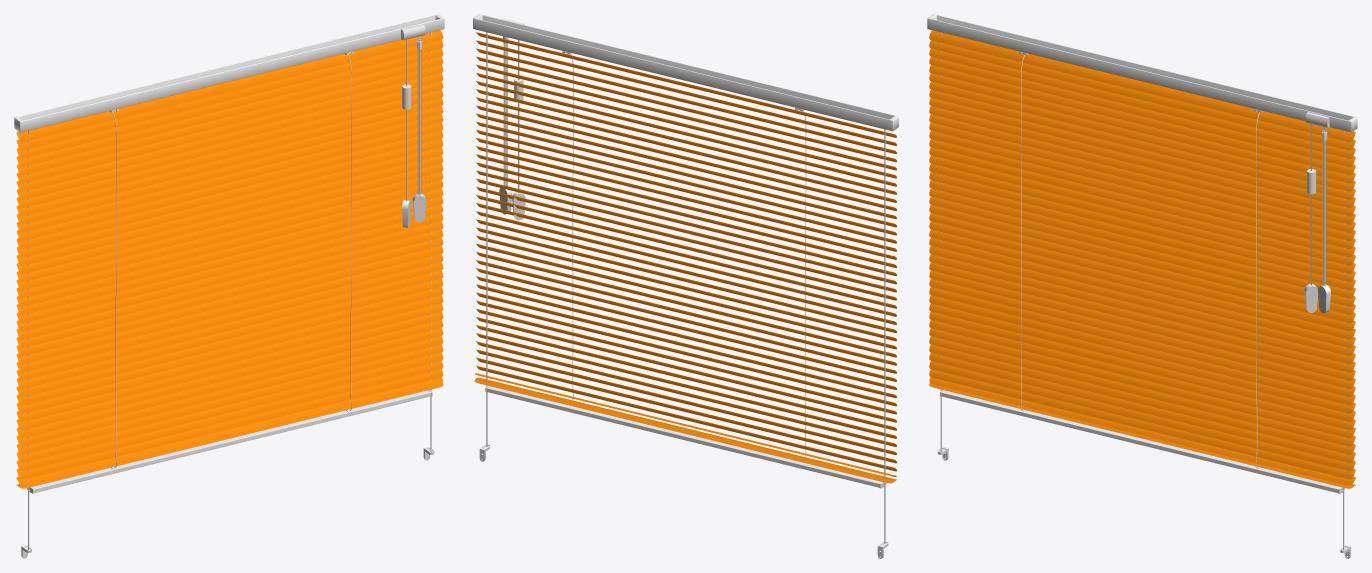
Rendered from 8000 Standardjalousie (Schnurzug_Wendestab).glb.
The picture shows the model from 3 angles, left to right: view 1: azimuth 30°, elevation 25°; view 2: azimuth 150°, elevation 25°; view 3: azimuth 330°, elevation 25°; orthographic projection.
Visible parts, largest first — view 1: Cube.036, jalousie.049, jalousie.034, jalousie.029, jalousie.033, jalousie.038, jalousie.039, jalousie.042, jalousie.025, jalousie.030, jalousie.031, jalousie.035 (+36 smaller); view 2: Cube.036, Cube.038, jalousie.040, jalousie.012, jalousie.026, jalousie.034, jalousie.049, jalousie.004, jalousie.022, jalousie.024, jalousie.027, jalousie.029 (+35 smaller); view 3: Cube.036, jalousie.049, jalousie.024, jalousie.037, jalousie.039, jalousie.029, jalousie.028, jalousie.030, jalousie.033, jalousie.034, jalousie.038, jalousie.025 (+35 smaller).
Part boxes in pixels (x1,y1,x2,y2): Cube.036: (14, 14, 444, 132); jalousie.049: (16, 30, 443, 142); jalousie.034: (16, 311, 443, 421); jalousie.029: (16, 270, 443, 380); jalousie.033: (16, 303, 443, 413); jalousie.038: (16, 344, 443, 454); jalousie.039: (16, 352, 443, 462); jalousie.042: (16, 361, 443, 471); jalousie.025: (16, 237, 443, 347); jalousie.030: (16, 278, 443, 388); jalousie.031: (16, 287, 443, 397); jalousie.035: (16, 319, 443, 429); Cube.036: (473, 14, 898, 131); Cube.038: (487, 386, 881, 487); jalousie.040: (474, 377, 896, 483); jalousie.012: (476, 130, 896, 235); jalousie.026: (476, 243, 896, 349); jalousie.034: (476, 309, 896, 414); jalousie.049: (476, 32, 896, 137); jalousie.004: (476, 64, 896, 170); jalousie.022: (476, 211, 896, 316); jalousie.024: (476, 227, 896, 332); jalousie.027: (476, 252, 896, 357); jalousie.029: (476, 268, 896, 373); Cube.036: (927, 14, 1357, 132); jalousie.049: (929, 30, 1355, 142); jalousie.024: (929, 229, 1355, 339); jalousie.037: (929, 336, 1355, 446); jalousie.039: (929, 352, 1355, 462); jalousie.029: (929, 270, 1355, 380); jalousie.028: (929, 262, 1355, 372); jalousie.030: (929, 278, 1355, 388); jalousie.033: (929, 303, 1355, 413); jalousie.034: (929, 311, 1355, 421); jalousie.038: (929, 344, 1355, 454); jalousie.025: (929, 237, 1355, 347).
Size of the model in its own units: 0.9996 by 0.9999 by 0.0495.
Materials: 3 (1 with a texture image).
